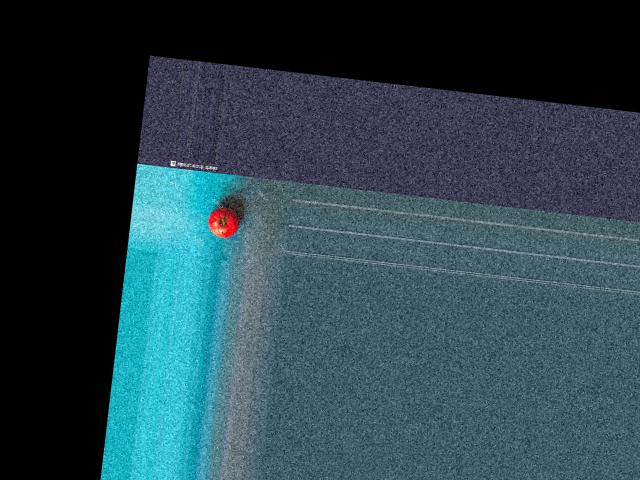tomato: (207, 205, 240, 239)
